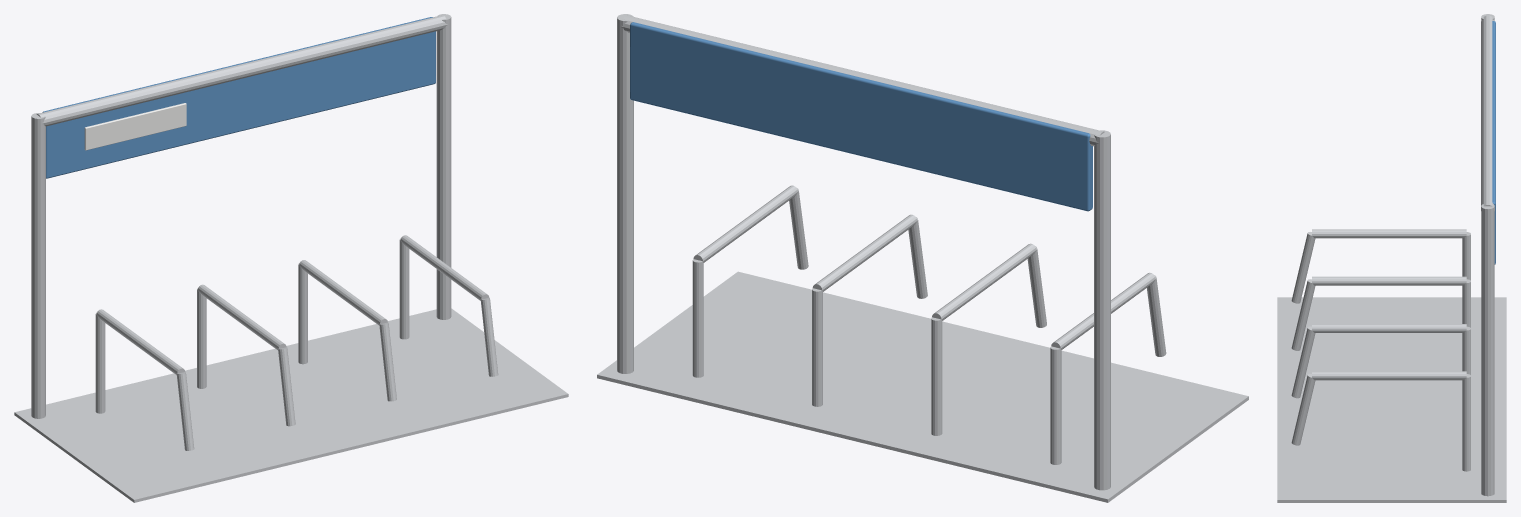
3 views of the same model, side by side, from view 1: azimuth 30°, elevation 25°; view 2: azimuth 150°, elevation 25°; view 3: azimuth 270°, elevation 25° (orthographic). The views are drawn at different scales.
Visible parts, largest first — view 1: pushchair-park; view 2: pushchair-park; view 3: pushchair-park.
Part boxes in pixels (x1,y1,x2,y2): pushchair-park: (14,14,568,502); pushchair-park: (597,14,1248,502); pushchair-park: (1277,14,1506,502).
Size of the model in its own units: 1.8 by 1.21 by 0.8599.
